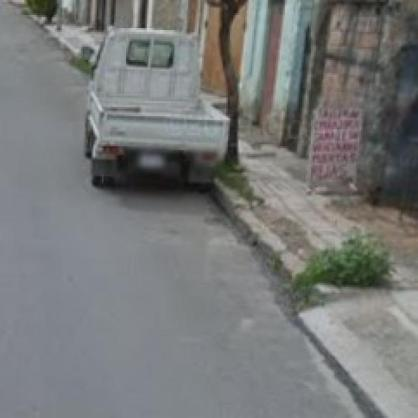car: (80, 28, 233, 193)
